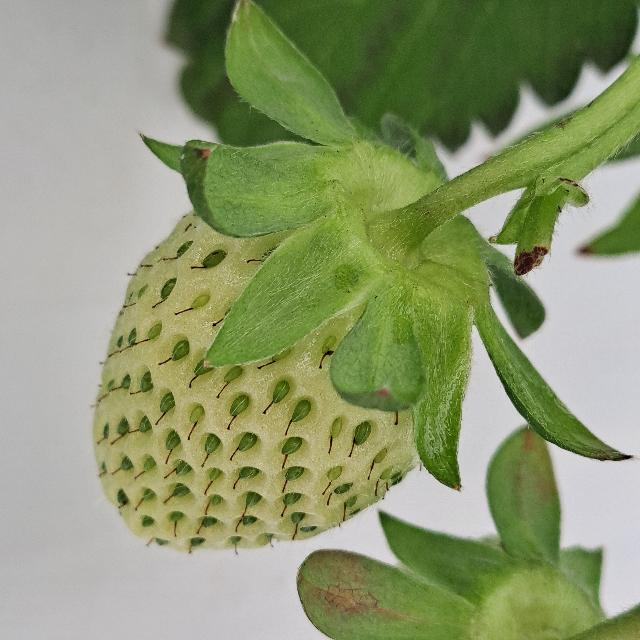Health_25: (92, 208, 420, 552)
